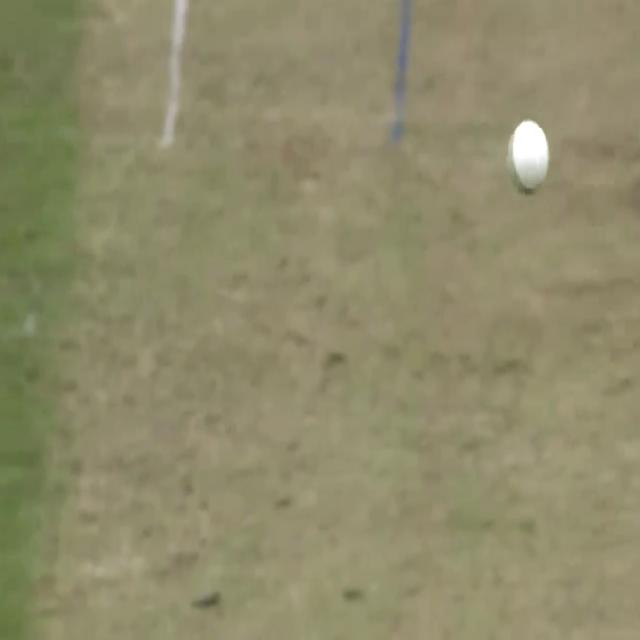ball: (504, 115, 550, 202)
